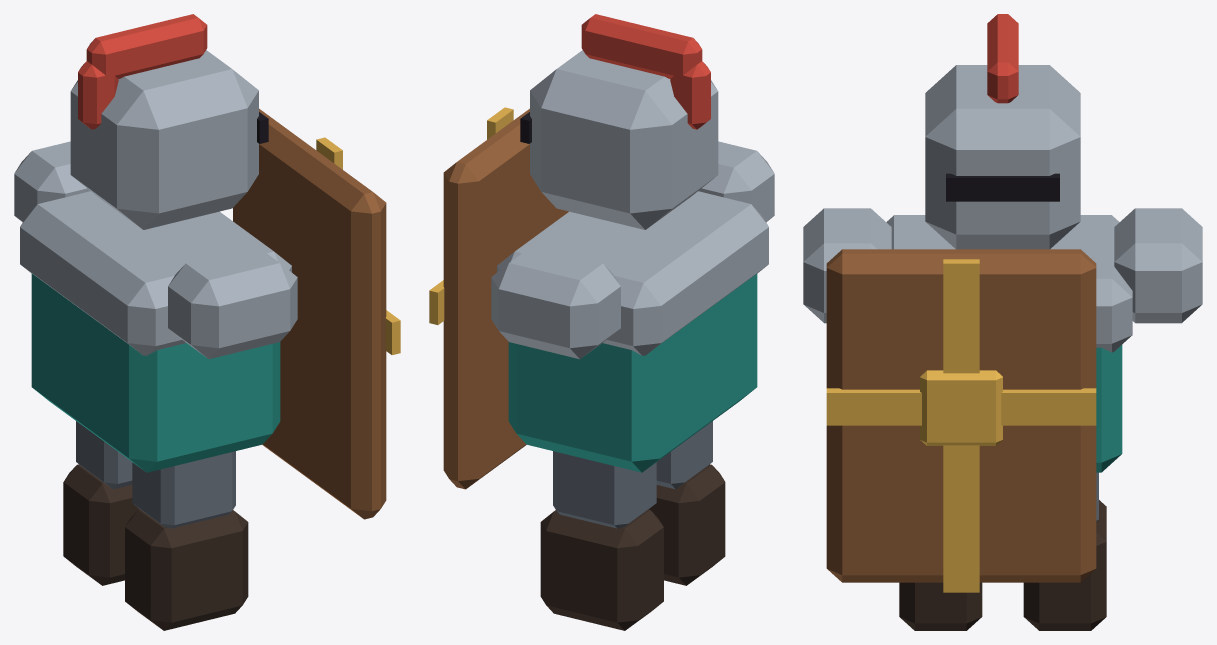
Rendered from bulwark.glb.
3 views of the same model, side by side, from view 1: azimuth 30°, elevation 25°; view 2: azimuth 150°, elevation 25°; view 3: azimuth 270°, elevation 25° (orthographic).
Visible parts, largest first — view 1: bulwark; view 2: bulwark; view 3: bulwark.
Boxes of the visible parts, x1,y1,x2,y2 form: bulwark: (14, 14, 400, 630); bulwark: (429, 14, 774, 630); bulwark: (803, 14, 1202, 630).
Bounding box in the file's own units: 0.55 × 1.22 × 0.77.
